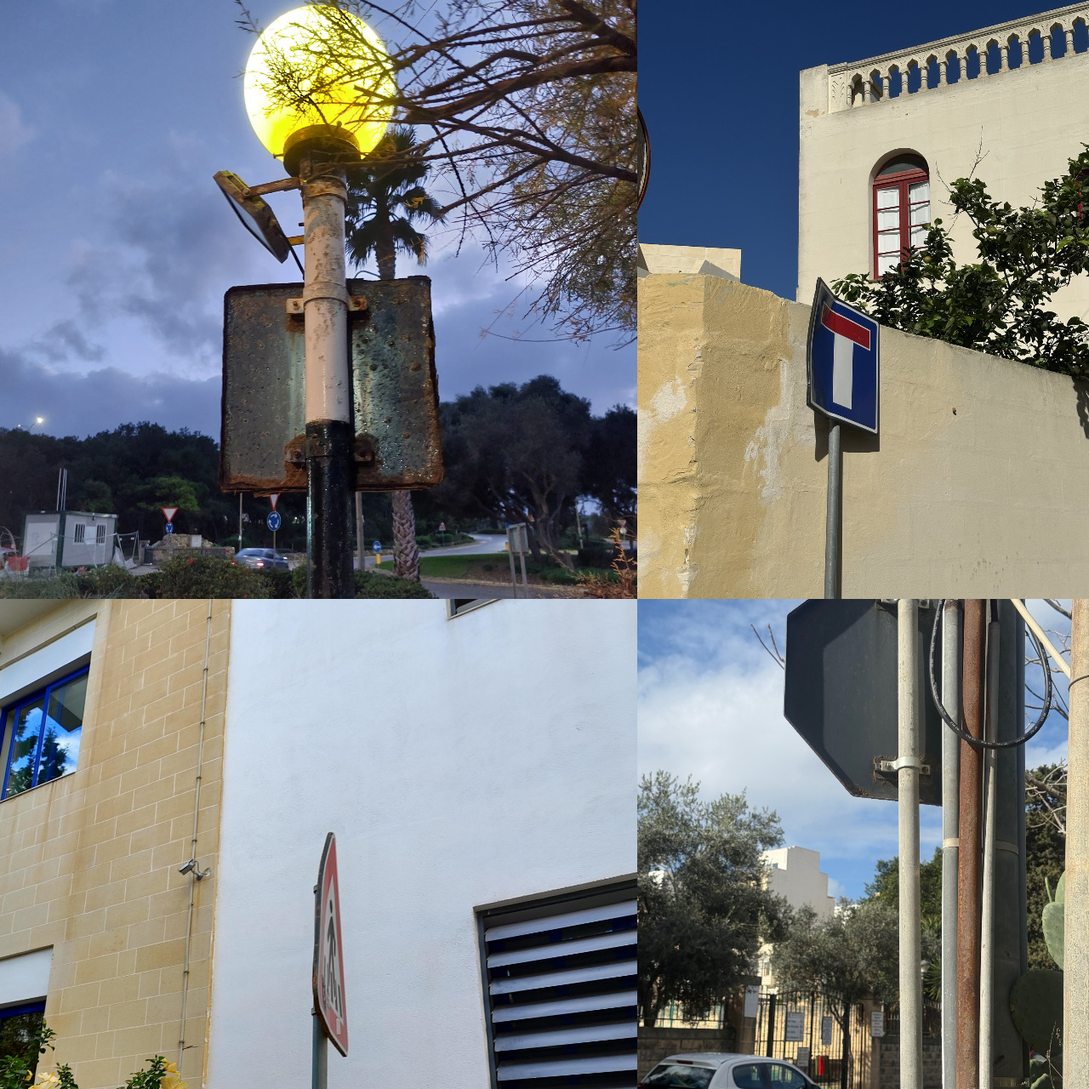Back-Unknown: (219, 274, 443, 493), (783, 562, 944, 805), (507, 522, 530, 556), (617, 519, 627, 527), (619, 527, 627, 534)
Directional Sign: (373, 540, 382, 551)
No Through Road T-Junction: (806, 277, 880, 437)
Other-Unknown: (162, 507, 178, 522), (270, 493, 280, 511)
Pedestrian Crossing: (311, 831, 348, 1057)
Roundabout Ahead: (267, 511, 281, 531), (165, 522, 173, 534)
